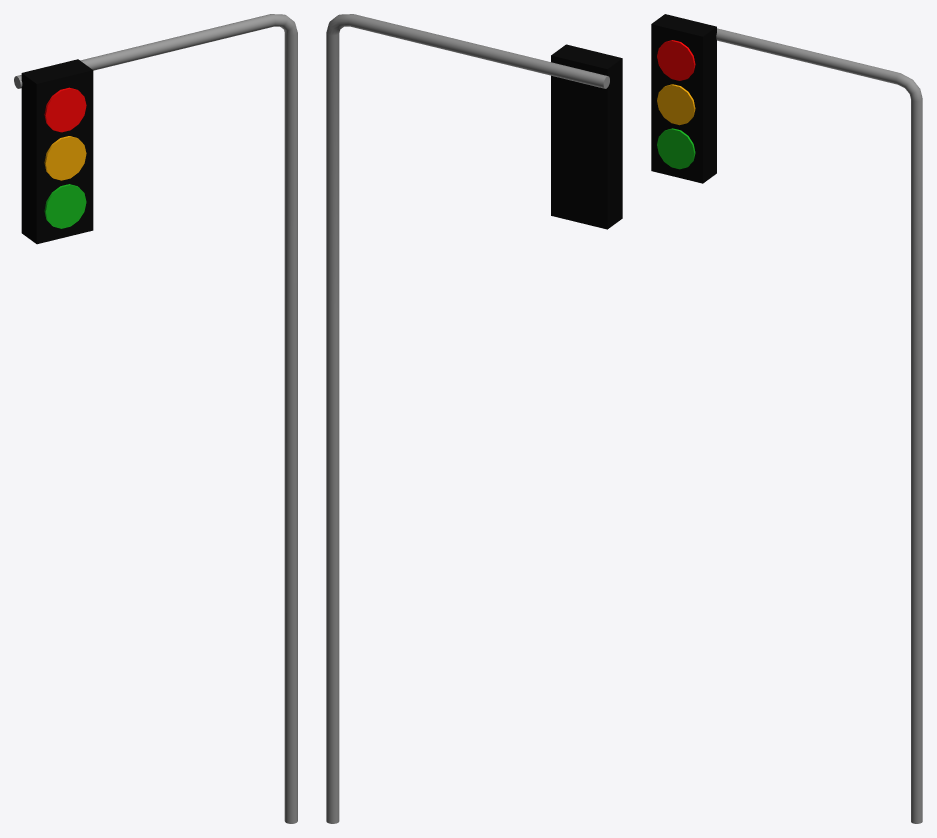
Rendered from TrafficLightSwitch.FBX.
3 renders of one model, left to right at view 1: azimuth 30°, elevation 25°; view 2: azimuth 150°, elevation 25°; view 3: azimuth 330°, elevation 25°, orthographic. The views are drawn at different scales.
Visible parts, largest first — view 1: Column, Base, RedLight, YellowLoght, GreenLight; view 2: Column, Base; view 3: Column, Base, YellowLoght, GreenLight, RedLight.
Part boxes in pixels (box(x1,y1,x2,y2)): Column: box(14, 14, 297, 823); Base: box(21, 59, 93, 244); RedLight: box(44, 87, 86, 132); YellowLoght: box(44, 136, 86, 180); GreenLight: box(44, 184, 86, 228); Column: box(326, 14, 609, 823); Base: box(551, 44, 622, 229); Column: box(716, 28, 922, 823); Base: box(651, 14, 716, 183); YellowLoght: box(657, 84, 695, 125); GreenLight: box(657, 128, 695, 169); RedLight: box(657, 40, 695, 80).
Size of the model in its own units: 58.24 by 162 by 8.
